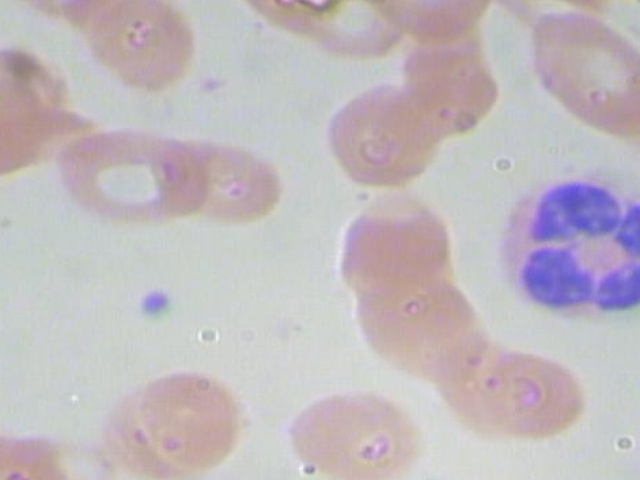Platelets: (113, 286, 189, 325)
RBC: (299, 72, 460, 197), (432, 326, 598, 445), (312, 189, 479, 307), (340, 267, 506, 385), (91, 366, 257, 480), (273, 375, 439, 480), (513, 4, 640, 138), (45, 128, 211, 229), (71, 0, 215, 97), (156, 134, 293, 229), (387, 31, 499, 135), (0, 98, 100, 194), (0, 41, 85, 142), (289, 0, 414, 61), (378, 0, 506, 36), (610, 55, 640, 183)
WBC: (481, 173, 640, 323)
